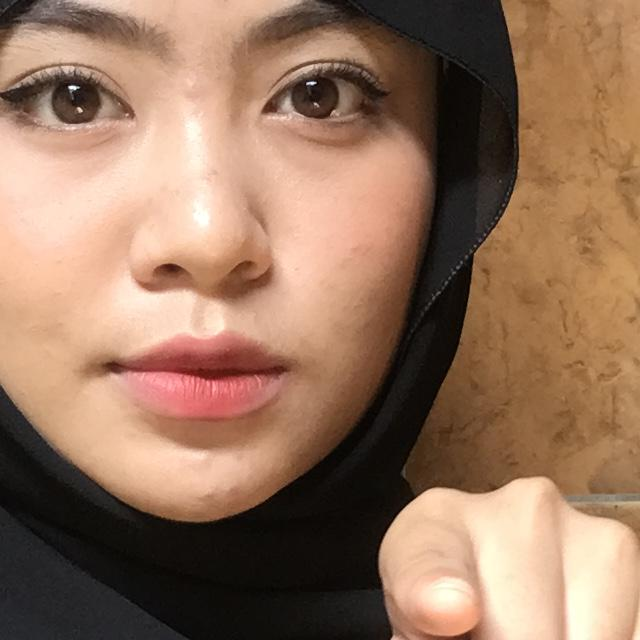kamu: (240, 386, 640, 640)
